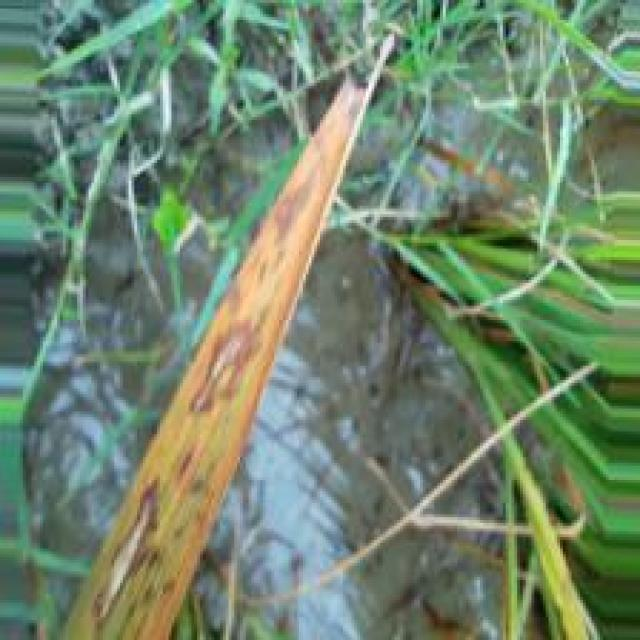Narrow_Brown_Leaf_Spot: (60, 57, 390, 640)
